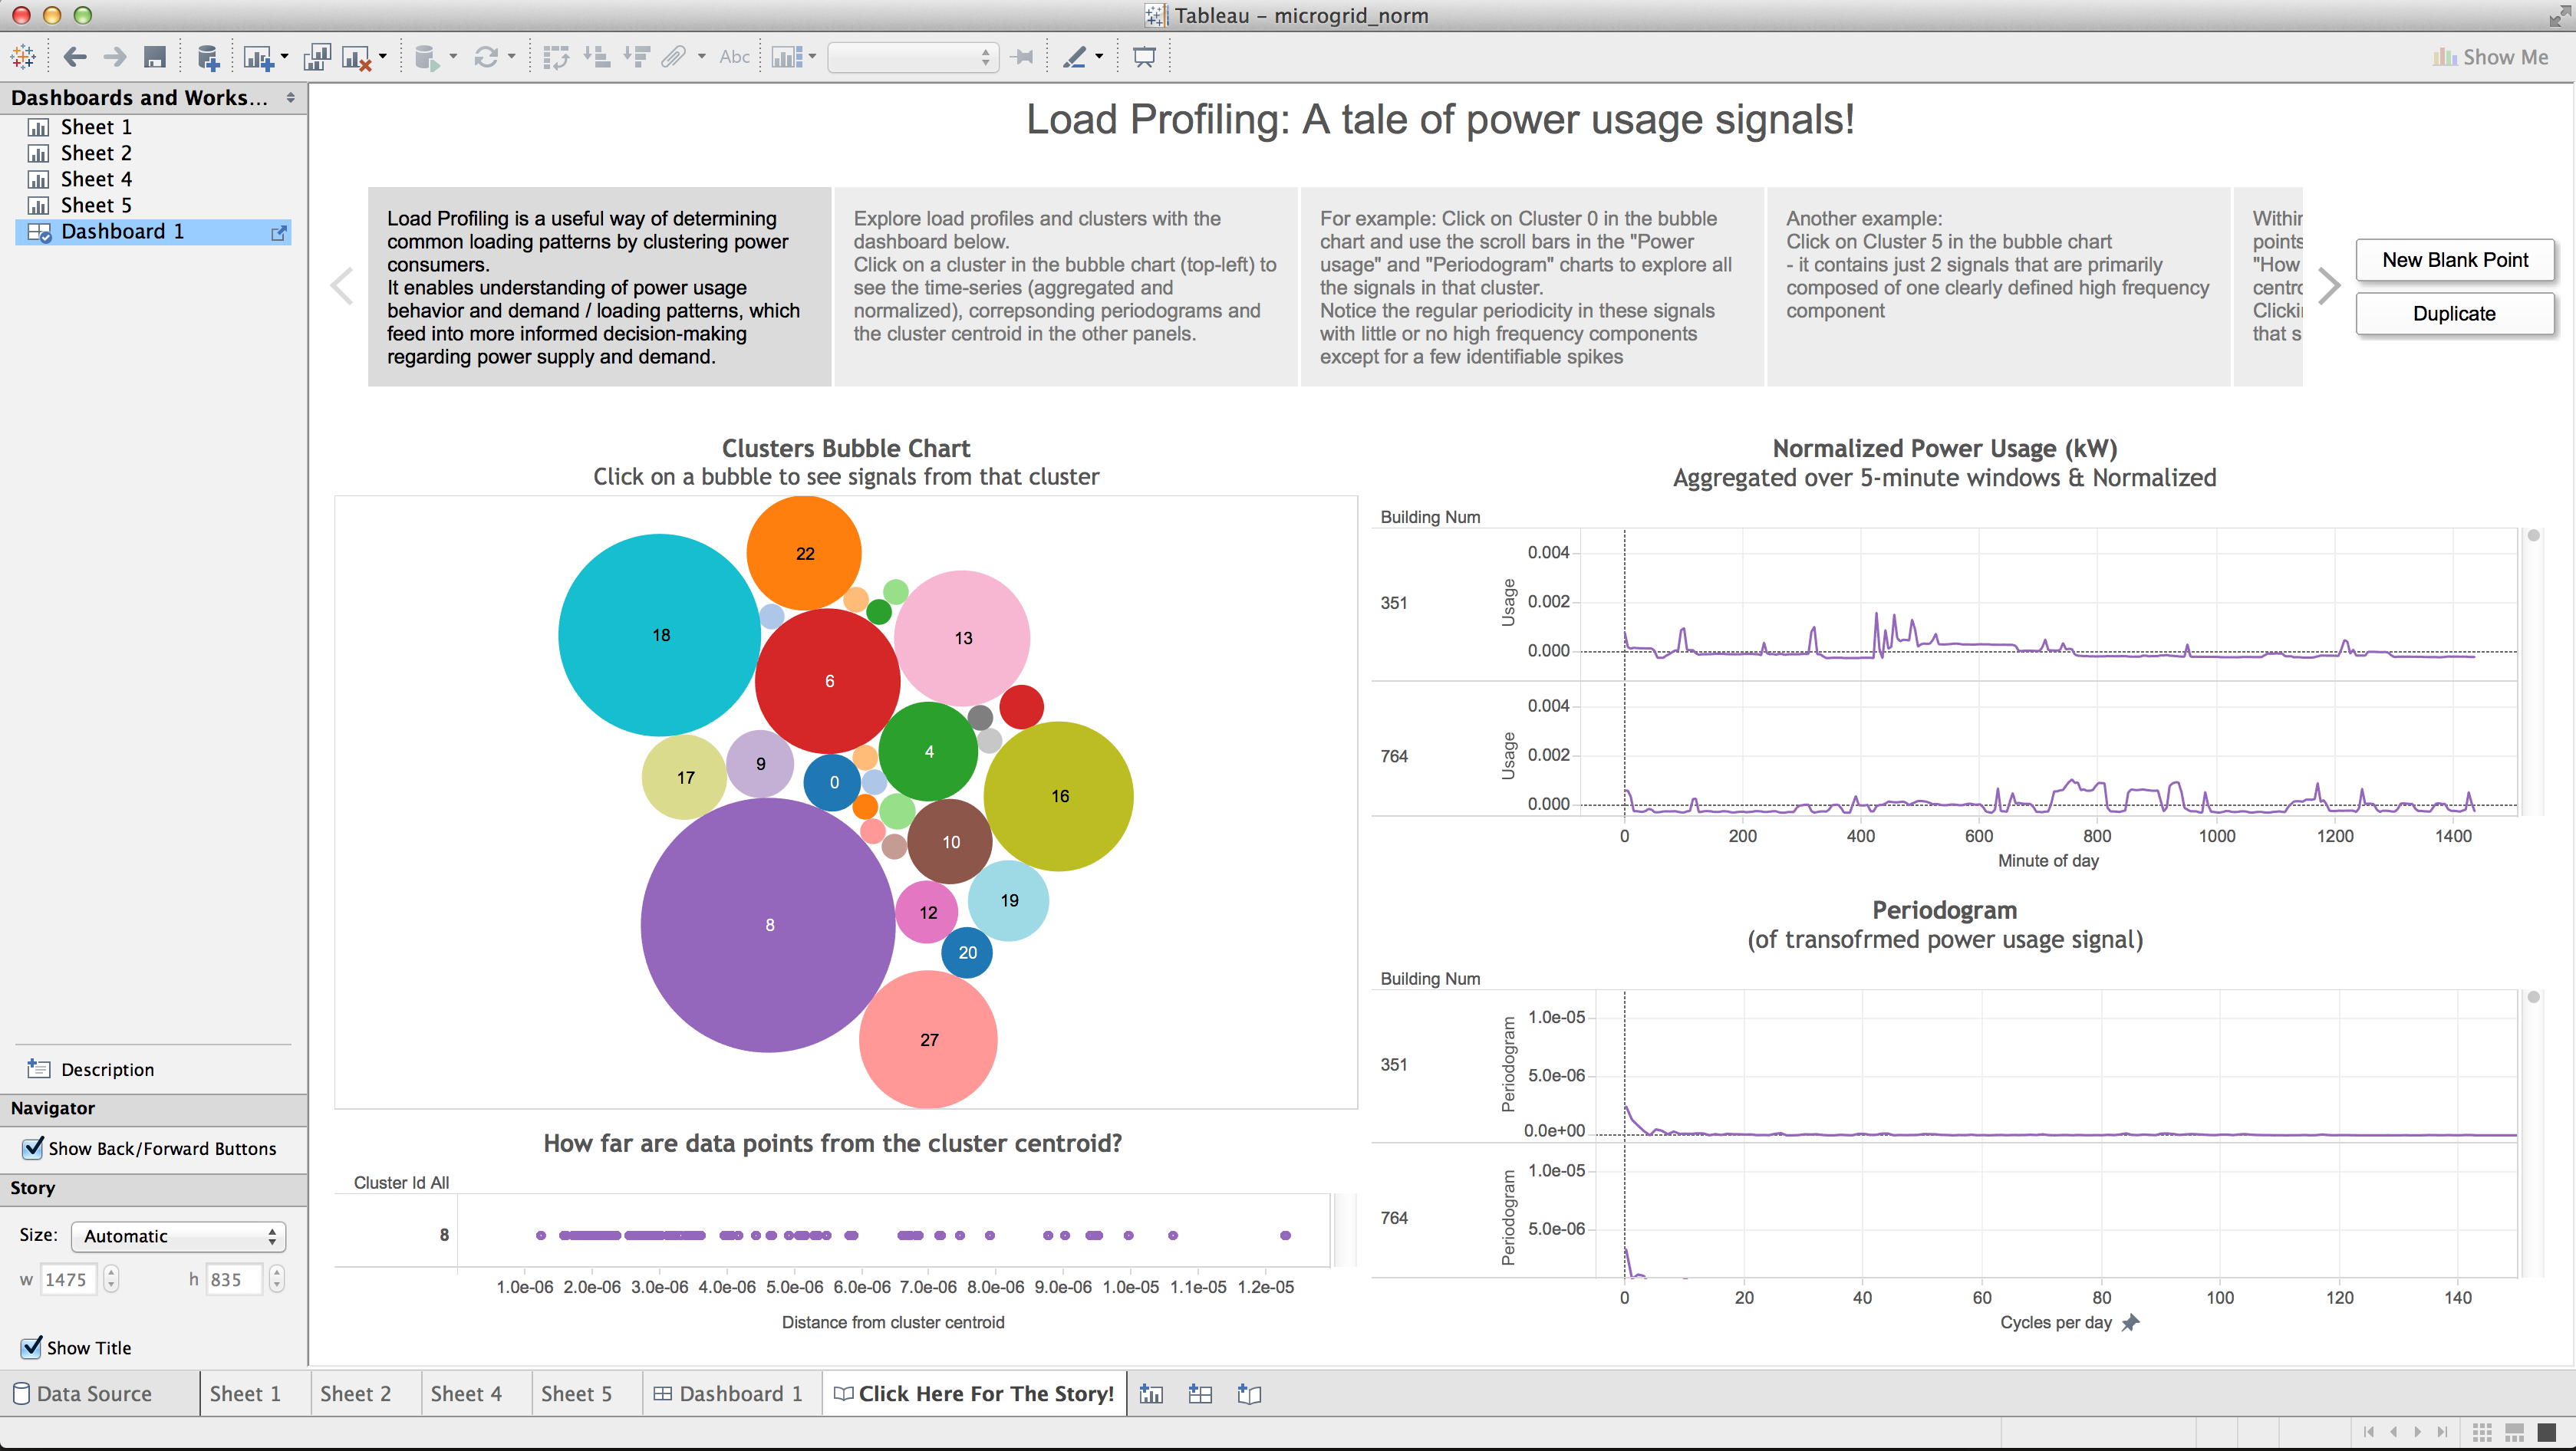

This screenshot's page, from the dashboard's own definition file:
{"tool":"tableau","page":{"name":"Dashboard 1","canvas":[1000,1000],"units":"permille","ordinal":0},"visuals":[{"type":"worksheet","title":"Sheet 4","mark":"Circle","box":[0,0,466.4,749.4]},{"type":"worksheet","title":"Sheet 1","mark":"Line","rows":["building_num","Calculation_404409220204822528"],"cols":["Calculation_76420502314672128"],"box":[466.4,0,530.9,500]},{"type":"worksheet","title":"Sheet 2","mark":"Automatic","rows":["building_num","Calculation_404409220205314049"],"cols":["Calculation_404409220206022658"],"box":[466.4,500,530.9,500]},{"type":"worksheet","title":"Sheet 5","mark":"Automatic","rows":["cluster_id_all"],"cols":["l2dist_all"],"box":[0,749.4,466.4,250.6]}]}

Visuals, with their boxes on the dashboard's canvas, which has no fixed pixel size, in thousandths of its width and height (x1, y1, x2, y2). These are canvas units, not pixel positions in the 2576x1451 screenshot, which may show the page scaled, cropped or inside an application window:
"Sheet 4" worksheet (Circle marks): detection(0, 0, 466, 749)
"Sheet 1" worksheet (Line marks): detection(466, 0, 997, 500)
"Sheet 2" worksheet: detection(466, 500, 997, 1000)
"Sheet 5" worksheet: detection(0, 749, 466, 1000)
